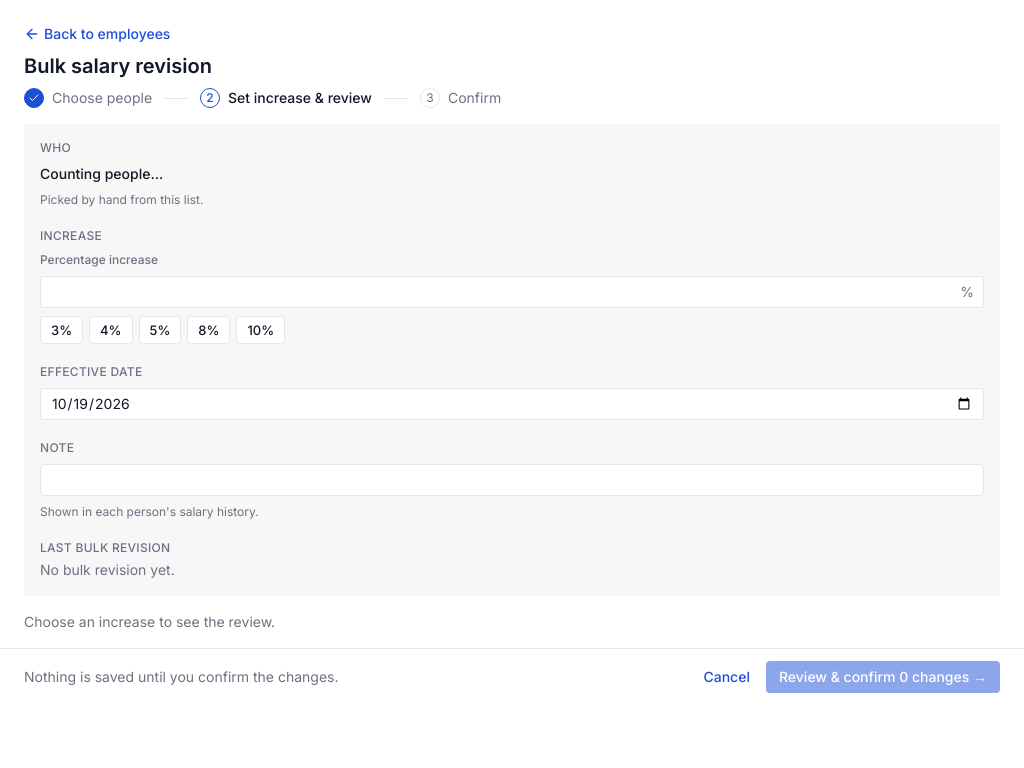
Test: BulkRevisionPage setup › asks for a valid percentage and an effective date that is not in the future
This screenshot has width=1024, height=768.
In the field labelled "Percentage increase": (512, 292) x1=40 y1=276 x2=984 y2=308, type "abc"
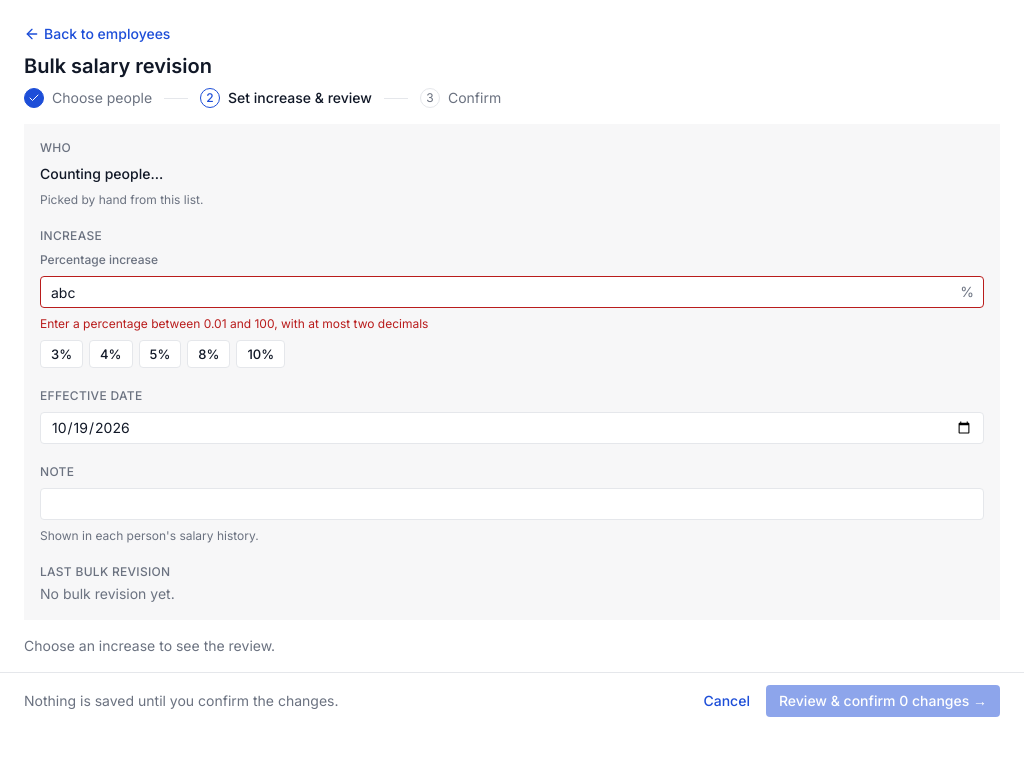
Result: the text "Enter a percentage between 0.01 and 100, with at most two decimals" is shown at x1=40 y1=316 x2=428 y2=331
In the date field named "Effective date": (512, 428) x1=40 y1=412 x2=984 y2=444, type "2026-10-20"
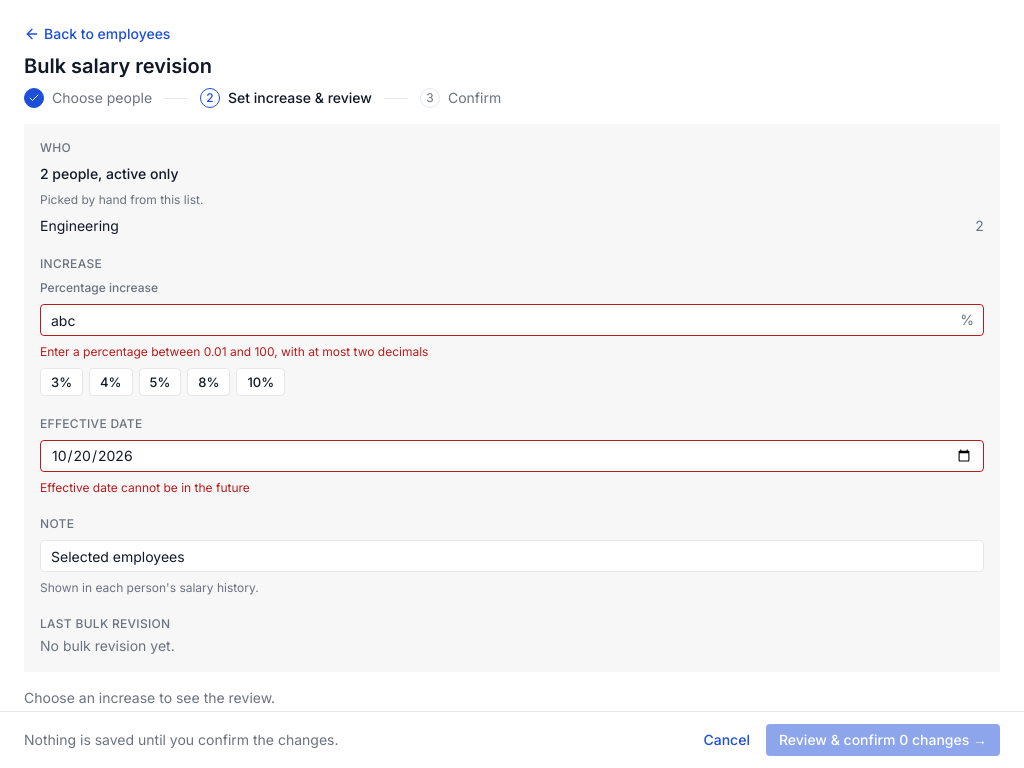
Result: the text "Effective date cannot be in the future" is shown at x1=40 y1=480 x2=250 y2=495
Clear the date field named "Effective date": (512, 456) x1=40 y1=440 x2=984 y2=472
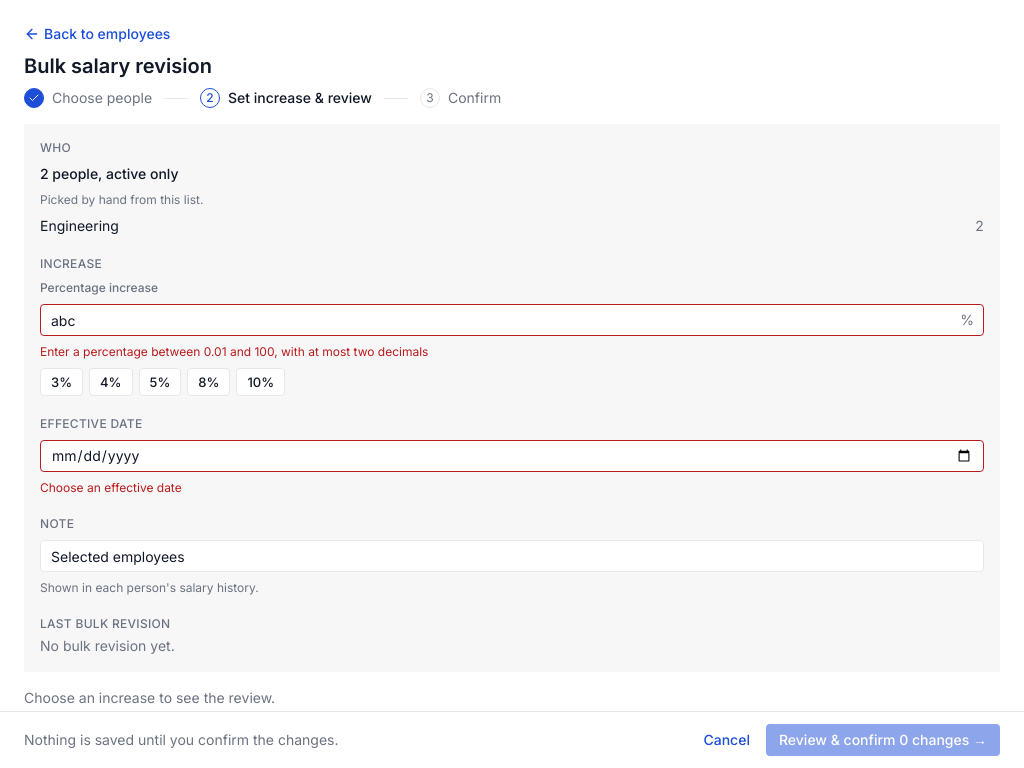
Result: the text "Choose an effective date" is shown at x1=40 y1=480 x2=182 y2=495
